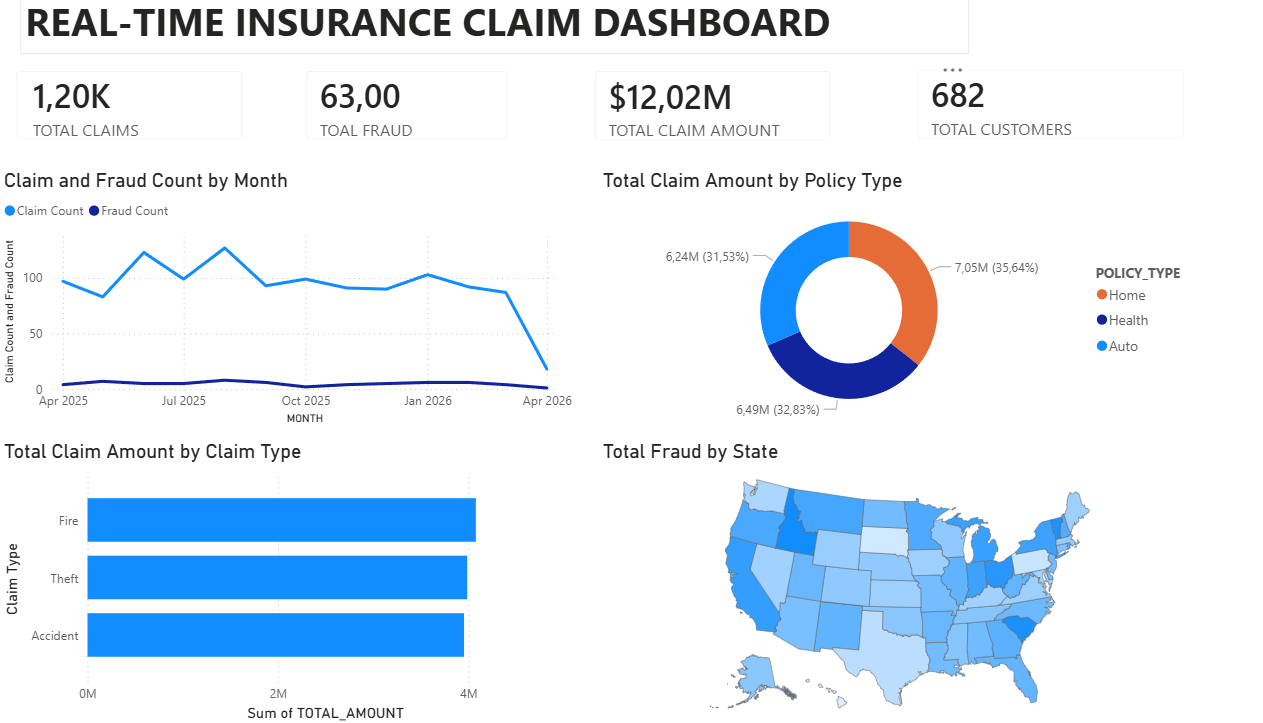

What the dashboard file says about the page in this screenshot:
{"tool":"powerbi","page":{"name":"Page 1","canvas":[1280,720],"ordinal":0},"visuals":[{"type":"lineChart","title":"Claim and Fraud Count by Month","fields":{"Category":["CLAIMS_SUMMARY.MONTH"],"Y":["Sum(CLAIMS_SUMMARY.CLAIM_COUNT)","Sum(CLAIMS_SUMMARY.FRAUD_COUNT)"]},"box":[0,174.9,566.2,255.6],"z":0},{"type":"barChart","title":"Total Claim Amount by Claim Type","fields":{"Category":["CLAIMS_SUMMARY.CLAIM_TYPE"],"Y":["Sum(CLAIMS_SUMMARY.TOTAL_AMOUNT)"]},"box":[0,440.5,566.7,279.9],"z":1},{"type":"cardVisual","title":"TOTAL CLAIMS","fields":{"Data":["Sum(CLAIMS_SUMMARY.CLAIM_COUNT)"]},"box":[0,62.4,255.6,101.5],"z":2},{"type":"cardVisual","fields":{"Data":["Sum(CLAIMS_SUMMARY.FRAUD_COUNT)"]},"box":[283.7,62.4,231.1,101.5],"z":3},{"type":"cardVisual","fields":{"Data":["Count(ST_CUSTOMERS.CUSTOMER_ID)"]},"box":[881.7,61.1,295.9,102.7],"z":4},{"type":"cardVisual","fields":{"Data":["Sum(CLAIMS_SUMMARY.TOTAL_AMOUNT)"]},"box":[566.2,62.4,264.1,102.7],"z":5},{"type":"shapeMap","title":"Total Fraud by State","fields":{"Category":["ST_CUSTOMERS.STATE"],"Value":["CountNonNull(STG_CLAIM.IS_FRAUD)"]},"box":[585.9,440.5,591.4,279.9],"z":6},{"type":"donutChart","title":"Total Claim Amount by Policy Type","fields":{"Category":["ST_CUSTOMERS.POLICY_TYPE"],"Y":["Sum(STG_CLAIM.AMOUNT)"]},"box":[585.7,174.9,591.9,255.6],"z":7},{"type":"textbox","box":[20.8,0,928.1,62.4],"z":8}]}

Visuals, with their boxes in screenshot pixels (x1, y1, x2, y2), scaled from the page's 1280x720 canvas onto the 1263x723 screenshot:
"Claim and Fraud Count by Month" lineChart: (left=0, top=176, right=559, bottom=432)
"Total Claim Amount by Claim Type" barChart: (left=0, top=442, right=559, bottom=722)
"TOTAL CLAIMS" cardVisual: (left=0, top=63, right=252, bottom=165)
cardVisual - Sum(CLAIMS_SUMMARY.FRAUD_COUNT): (left=280, top=63, right=508, bottom=165)
cardVisual - Count(ST_CUSTOMERS.CUSTOMER_ID): (left=870, top=61, right=1162, bottom=164)
cardVisual - Sum(CLAIMS_SUMMARY.TOTAL_AMOUNT): (left=559, top=63, right=819, bottom=166)
"Total Fraud by State" shapeMap: (left=578, top=442, right=1162, bottom=722)
"Total Claim Amount by Policy Type" donutChart: (left=578, top=176, right=1162, bottom=432)
textbox: (left=21, top=0, right=936, bottom=63)
